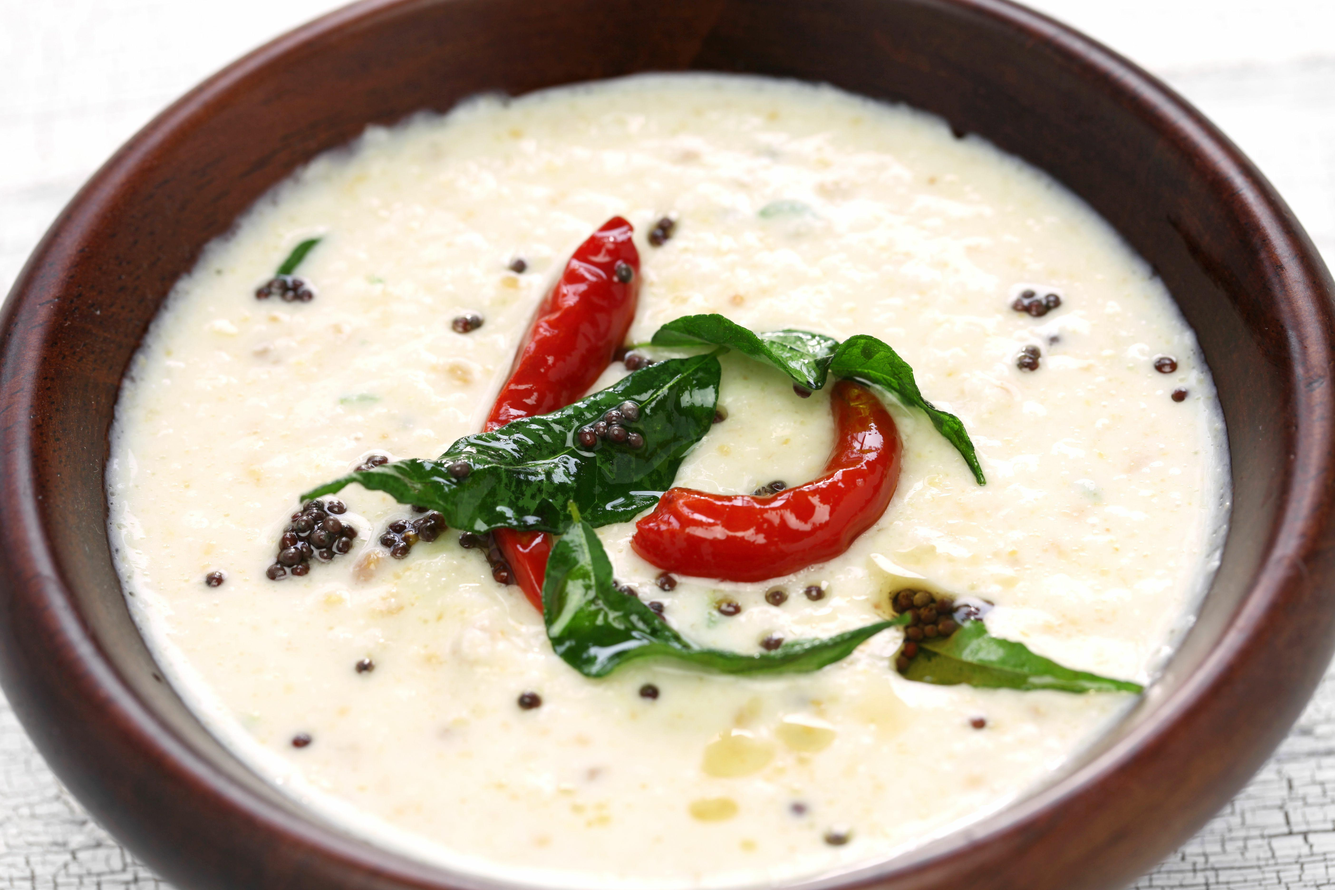CoconutChutney: (110, 70, 1226, 890)
